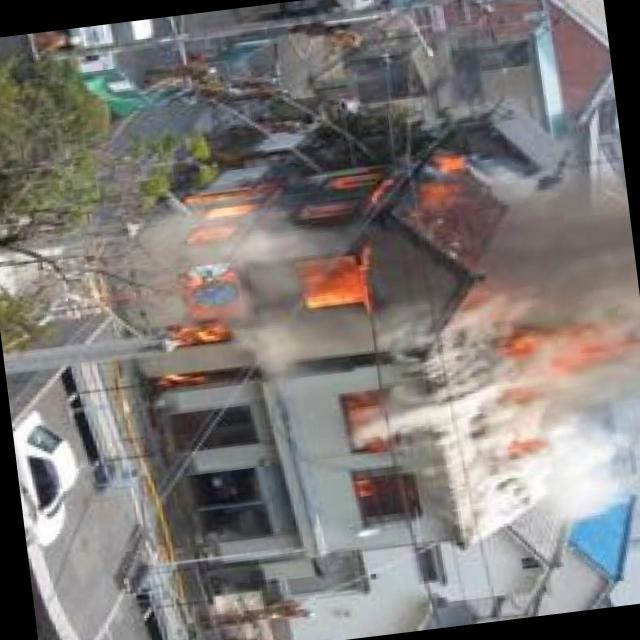Fire: (124, 148, 512, 398), (514, 323, 632, 440)
